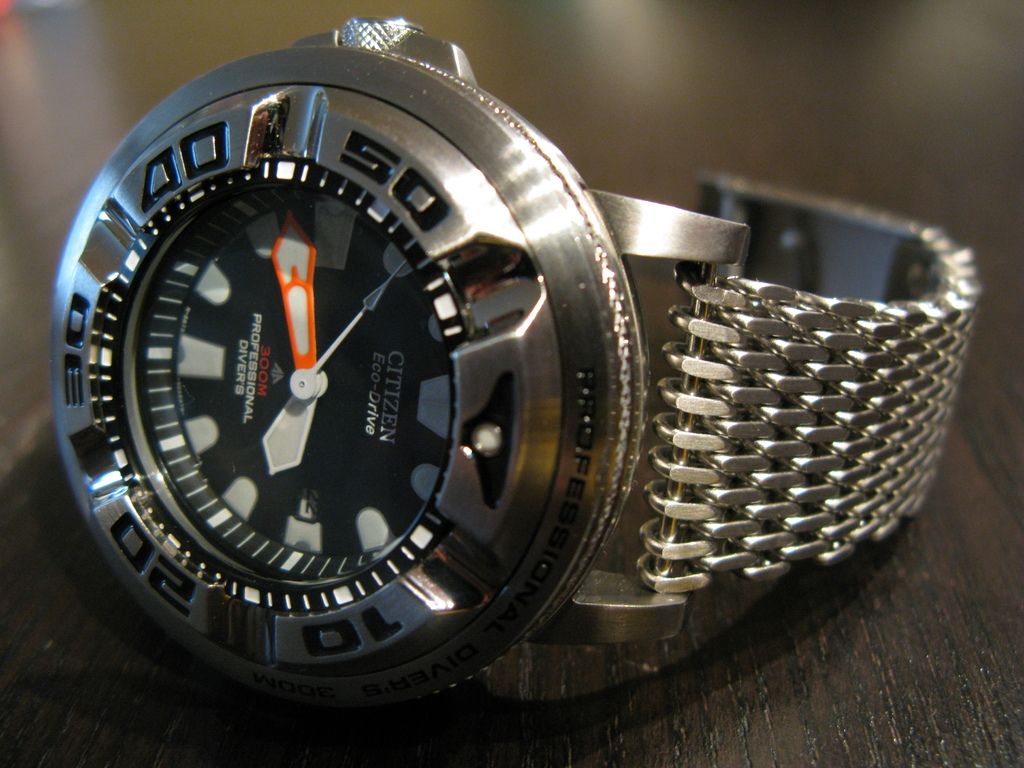watch: (44, 17, 990, 721)
